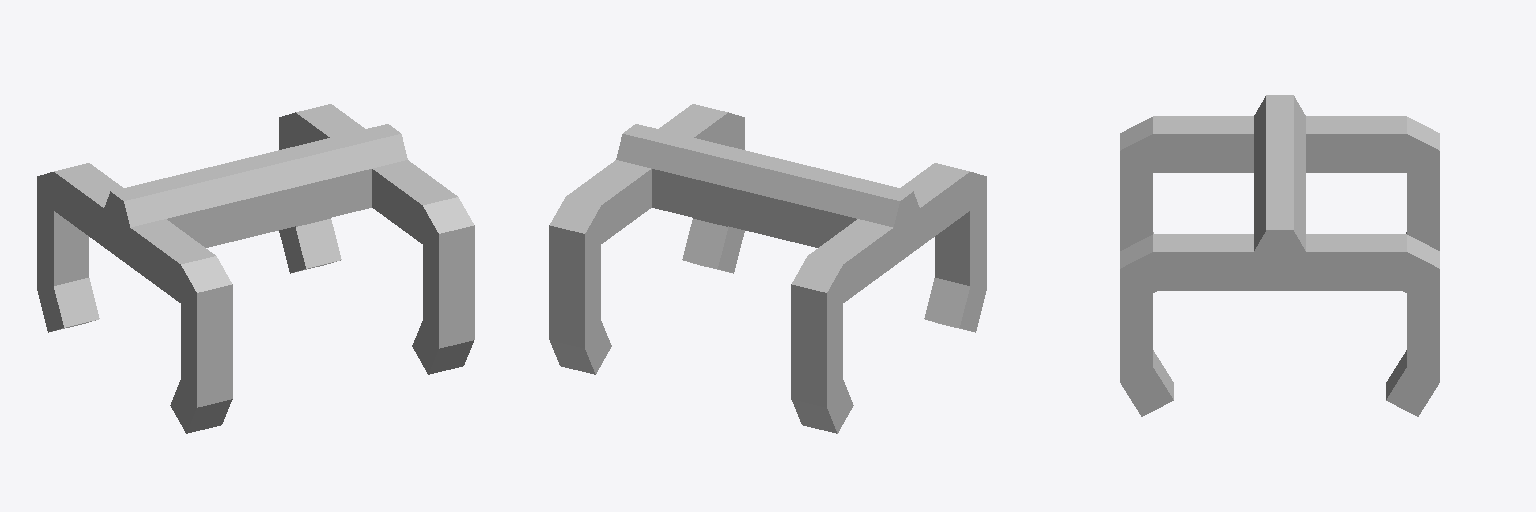
Rendered from SwallowHook.obj.
3 views of the same model, side by side, from view 1: azimuth 30°, elevation 25°; view 2: azimuth 150°, elevation 25°; view 3: azimuth 270°, elevation 25° (orthographic).
Size of the model in its own units: 2.32 by 1.49 by 2.31.